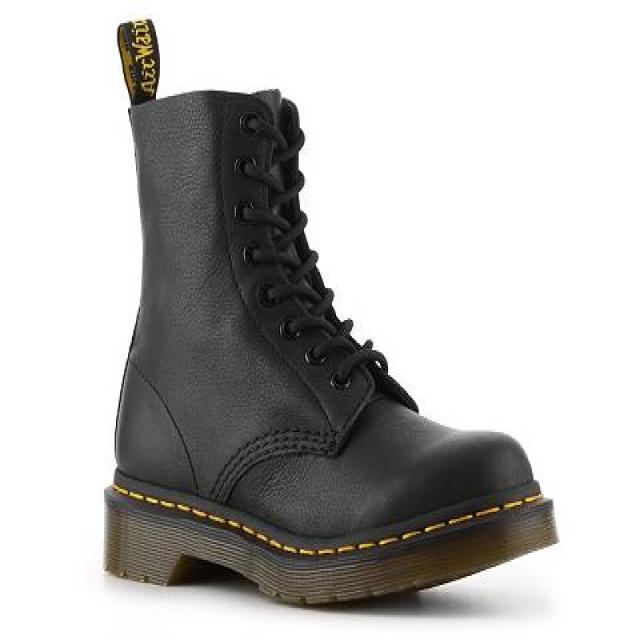boot: (88, 10, 568, 615)
